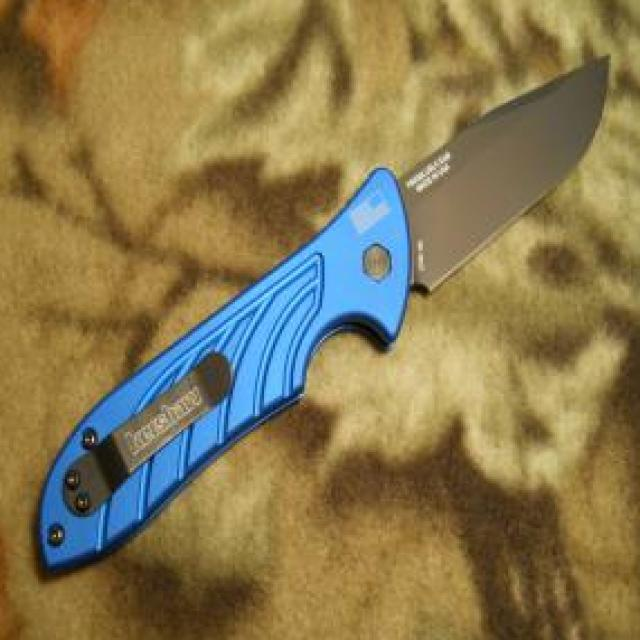knife: (360, 45, 614, 318)
